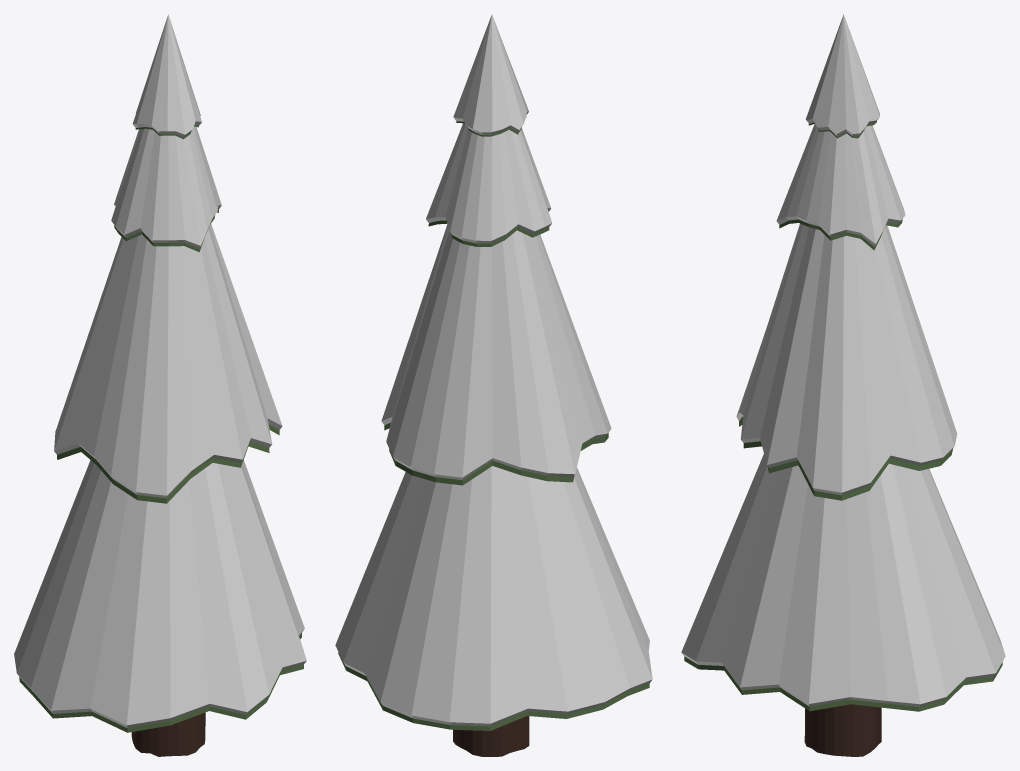
Rendered from tree_snow1.glb.
The picture shows the model from 3 angles, left to right: view 1: azimuth 30°, elevation 25°; view 2: azimuth 150°, elevation 25°; view 3: azimuth 270°, elevation 25°; orthographic projection.
Visible parts, largest first — view 1: Cylinder; view 2: Cylinder; view 3: Cylinder.
Boxes of the visible parts, x1=… form: Cylinder: x1=14, y1=14, x2=306, y2=756; Cylinder: x1=335, y1=14, x2=652, y2=756; Cylinder: x1=681, y1=14, x2=1005, y2=756.
Bounding box in the file's own units: 1.51 × 4.07 × 1.64.
